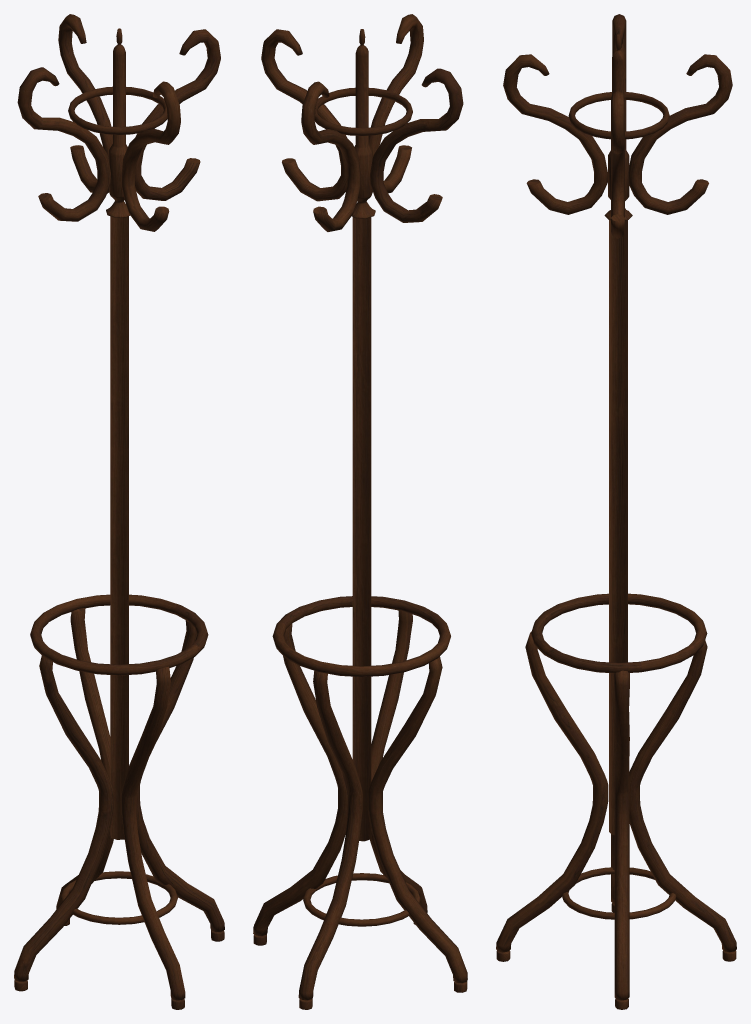
Rendered from coat_rack.glb.
3 renders of one model, left to right at view 1: azimuth 30°, elevation 25°; view 2: azimuth 150°, elevation 25°; view 3: azimuth 270°, elevation 25°, orthographic.
Visible parts, largest first — view 1: Cylinder; view 2: Cylinder; view 3: Cylinder.
Boxes of the visible parts, x1,y1,x2,y2 form: Cylinder: [14, 14, 224, 1009]; Cylinder: [253, 14, 467, 1009]; Cylinder: [496, 14, 736, 1009].
Size of the model in its own units: 1.81 by 7.65 by 1.81.
1 material, 1 textured.
